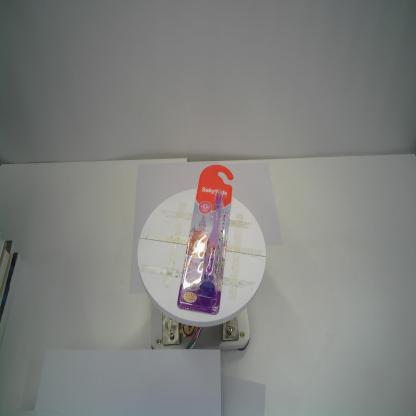Personal Hygiene: (176, 164, 234, 315)
